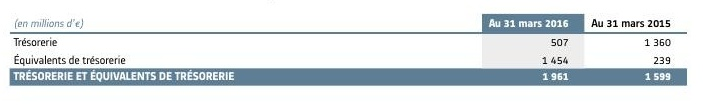table: (0, 0, 703, 105)
